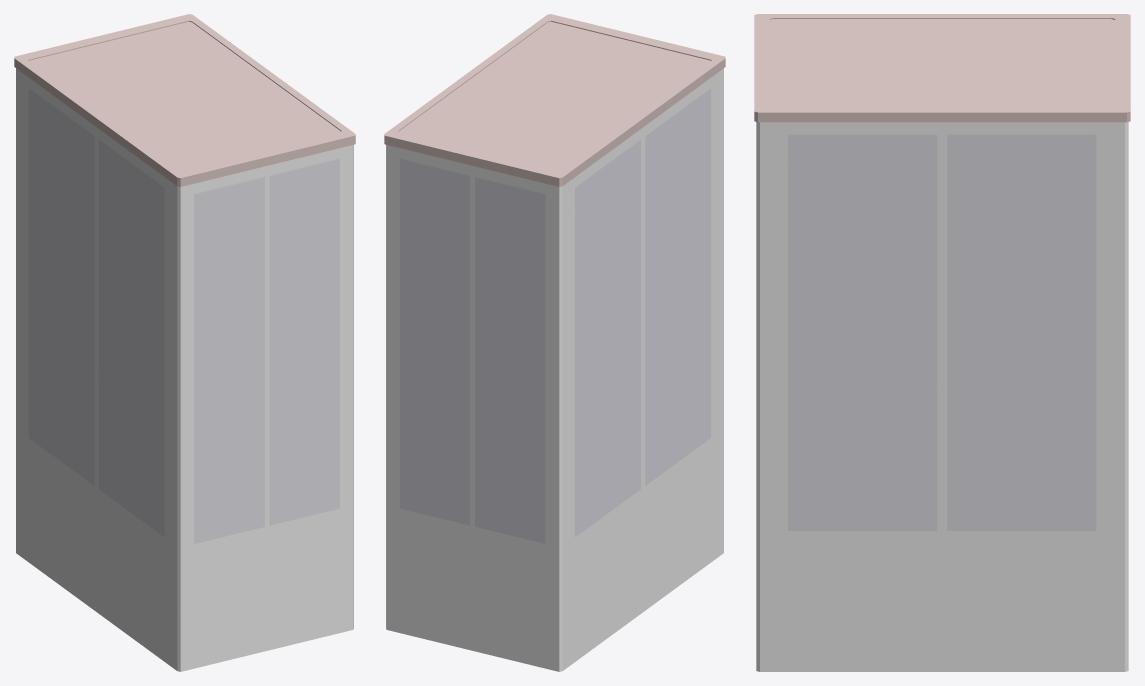
File: Building.fbx
The picture shows the model from 3 angles, left to right: view 1: azimuth 30°, elevation 25°; view 2: azimuth 150°, elevation 25°; view 3: azimuth 270°, elevation 25°; orthographic projection. The views are drawn at different scales.
Visible parts, largest first — view 1: Building_2__15_; view 2: Building_2__15_; view 3: Building_2__15_.
Boxes of the visible parts, left/top/right/bottom form: Building_2__15_: left=14, top=14, right=355, bottom=671; Building_2__15_: left=384, top=14, right=725, bottom=671; Building_2__15_: left=754, top=14, right=1130, bottom=671.
Bounding box in the file's own units: 12522 × 33182 × 20204.
